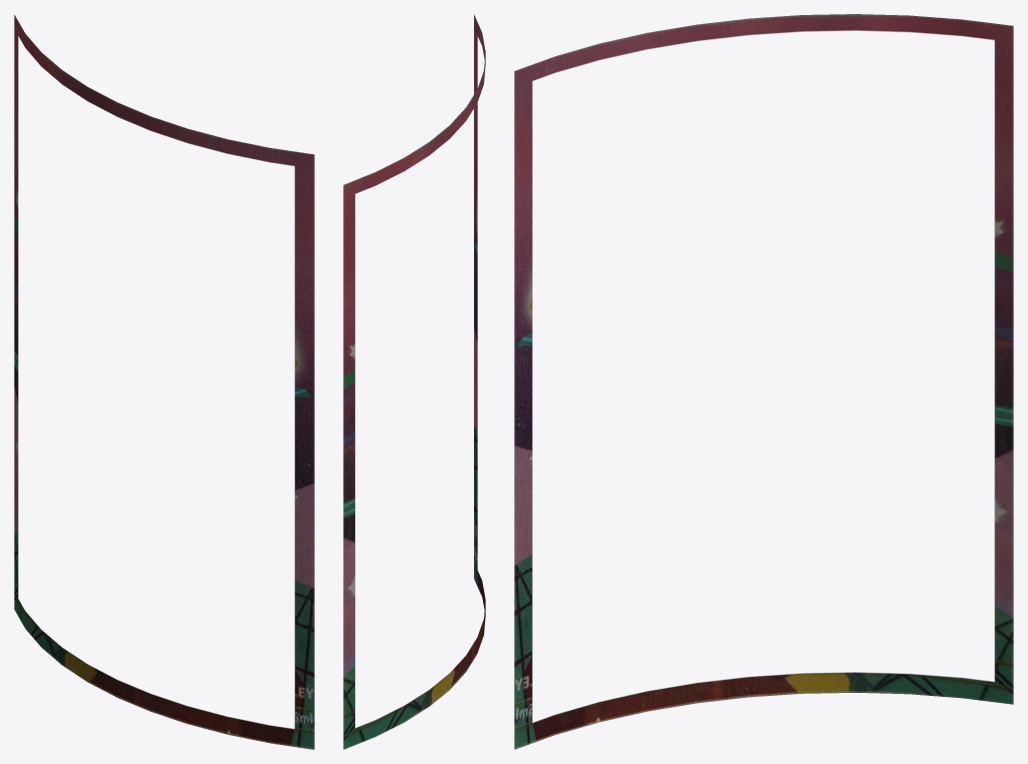
File: Cynthia-BB.glb
3 views of the same model, side by side, from view 1: azimuth 30°, elevation 25°; view 2: azimuth 150°, elevation 25°; view 3: azimuth 270°, elevation 25° (orthographic). The views are drawn at different scales.
Parts seen in each view (by area): view 1: 平面.1; view 2: 平面.1; view 3: 平面.1.
Part boxes in pixels (<box>): 平面.1: <box>14,14,314,749</box>; 平面.1: <box>343,14,485,749</box>; 平面.1: <box>514,14,1013,749</box>.
Bounding box in the file's own units: 0.5634 × 3.12 × 2.08.
1 material, 1 textured.
